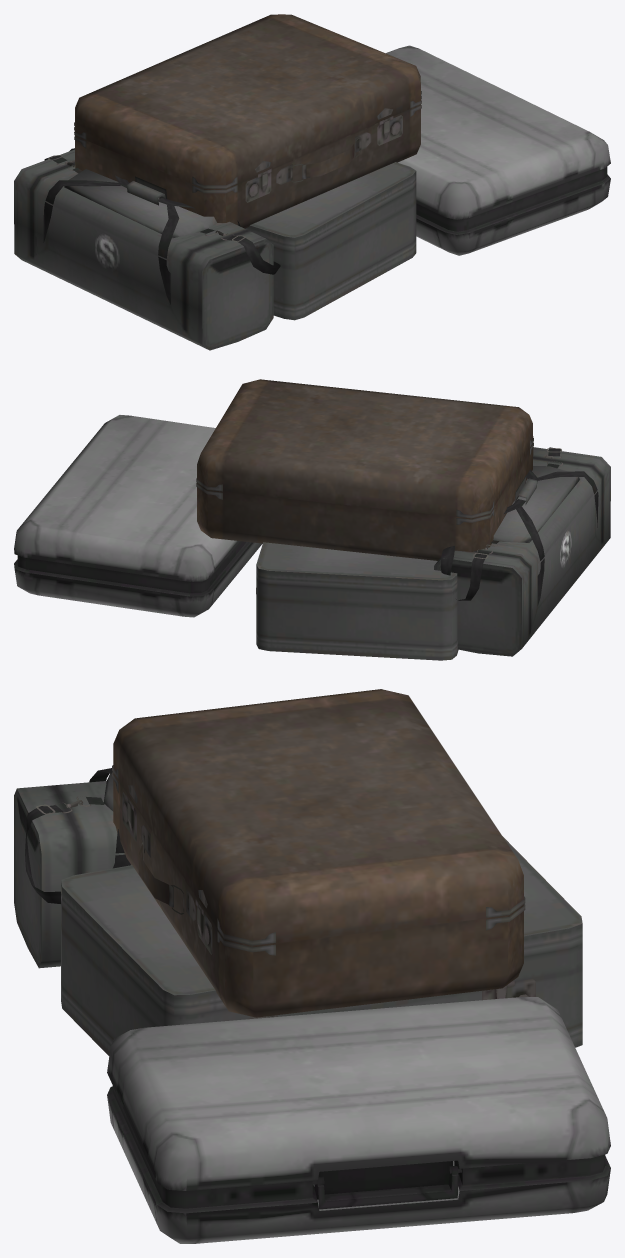
The model's file is ItemSpot.fbx.
3 renders of one model, top to bottom at view 1: azimuth 30°, elevation 25°; view 2: azimuth 150°, elevation 25°; view 3: azimuth 270°, elevation 25°, orthographic. The views are drawn at different scales.
Parts seen in each view (by area): view 1: ItemBox_Suitcase_01, ItemBox_Bag_01, ItemBox_Suitcase_04, ItemBox_Suitcase_02; view 2: ItemBox_Suitcase_01, ItemBox_Suitcase_04, ItemBox_Bag_01, ItemBox_Suitcase_02; view 3: ItemBox_Suitcase_01, ItemBox_Suitcase_04, ItemBox_Suitcase_02, ItemBox_Bag_01.
Boxes of the visible parts, x1,y1,x2,y2 form: ItemBox_Suitcase_01: (74,14,421,228); ItemBox_Bag_01: (14,148,280,350); ItemBox_Suitcase_04: (386,45,610,255); ItemBox_Suitcase_02: (245,162,416,320); ItemBox_Suitcase_01: (196,379,533,560); ItemBox_Suitcase_04: (14,415,262,617); ItemBox_Bag_01: (434,447,610,656); ItemBox_Suitcase_02: (256,542,458,660); ItemBox_Suitcase_01: (112,689,525,1017); ItemBox_Suitcase_04: (107,997,610,1243); ItemBox_Suitcase_02: (61,836,582,1055); ItemBox_Bag_01: (14,768,130,968).
Size of the model in its own units: 1.72 by 0.5285 by 1.18.
1 material, 1 textured.
